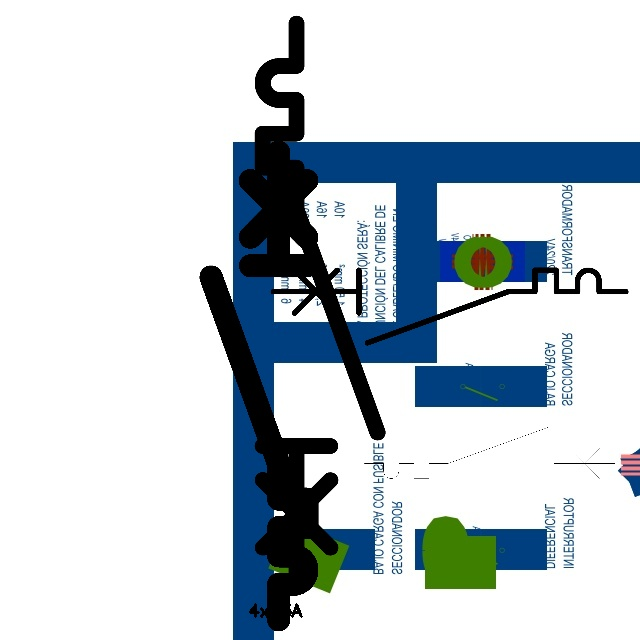interruptor_termomagnetico: (248, 9, 391, 595), (199, 140, 319, 632), (264, 261, 635, 351), (358, 421, 621, 485)
